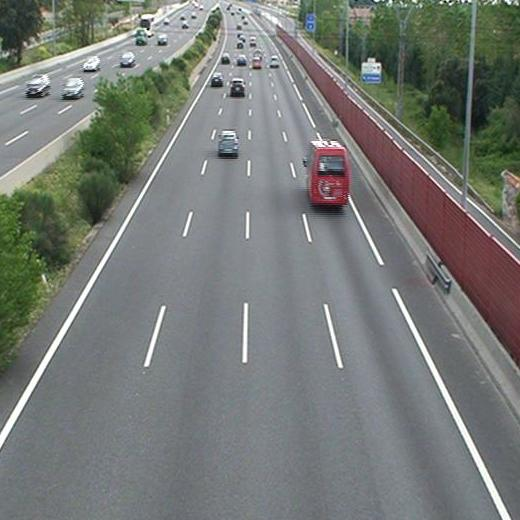bus: (308, 143, 350, 204)
car: (219, 131, 240, 155), (230, 80, 244, 93), (210, 73, 223, 85), (251, 57, 263, 68), (269, 56, 279, 67), (221, 53, 229, 63), (237, 56, 246, 64)
